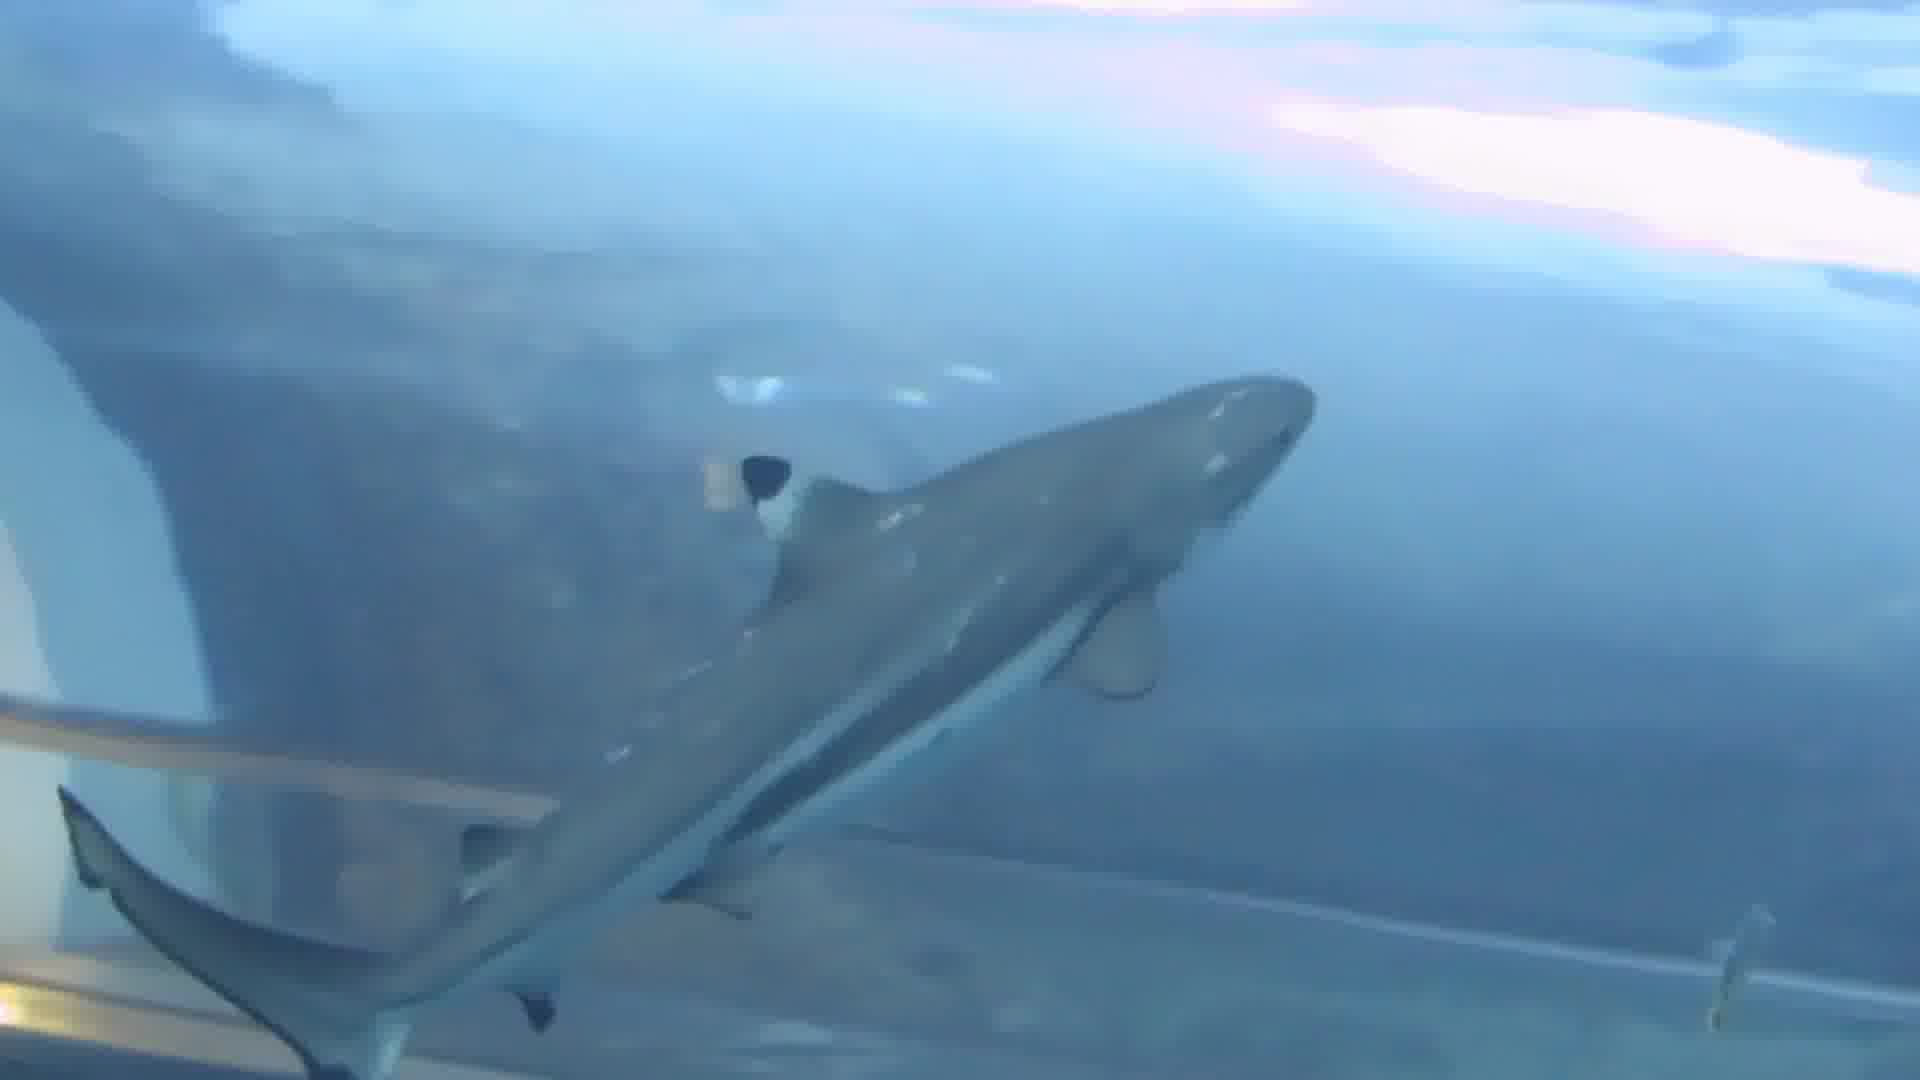Carcharhinus melanopterus: (1, 364, 1331, 1039)
